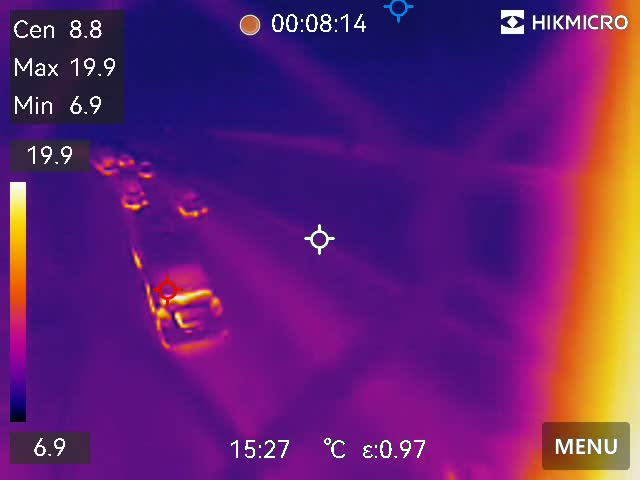vehicle: (126, 233, 231, 349), (119, 179, 156, 213), (176, 187, 212, 220), (95, 153, 114, 177), (137, 158, 154, 180), (117, 153, 133, 166)
